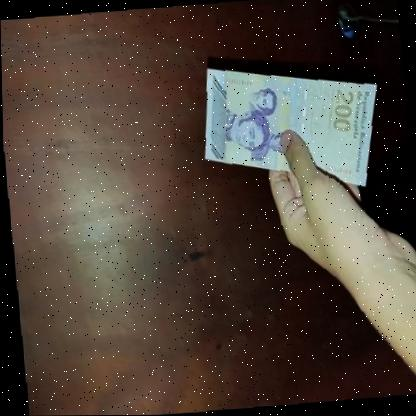two_hundred-front-vef: (194, 58, 384, 198)
